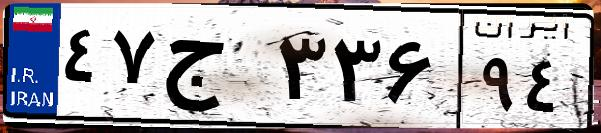3: (270, 28, 330, 110), (330, 28, 385, 110)
4: (57, 26, 110, 100), (525, 38, 570, 115)
6: (385, 28, 445, 110)
7: (110, 28, 158, 98)
9: (475, 38, 525, 113)
ج: (158, 20, 270, 120)
